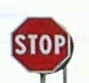stop: (11, 15, 71, 73)
